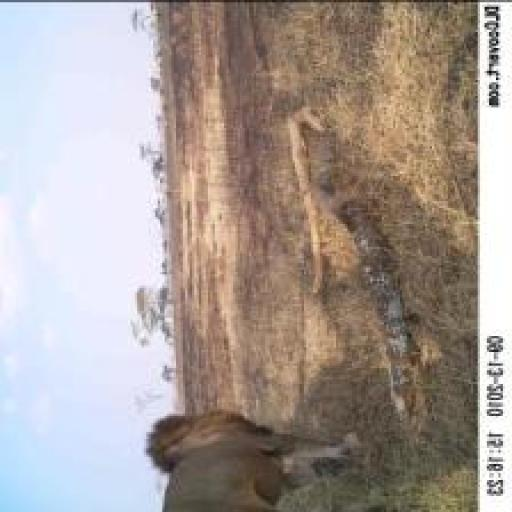lion: (127, 397, 378, 512)
